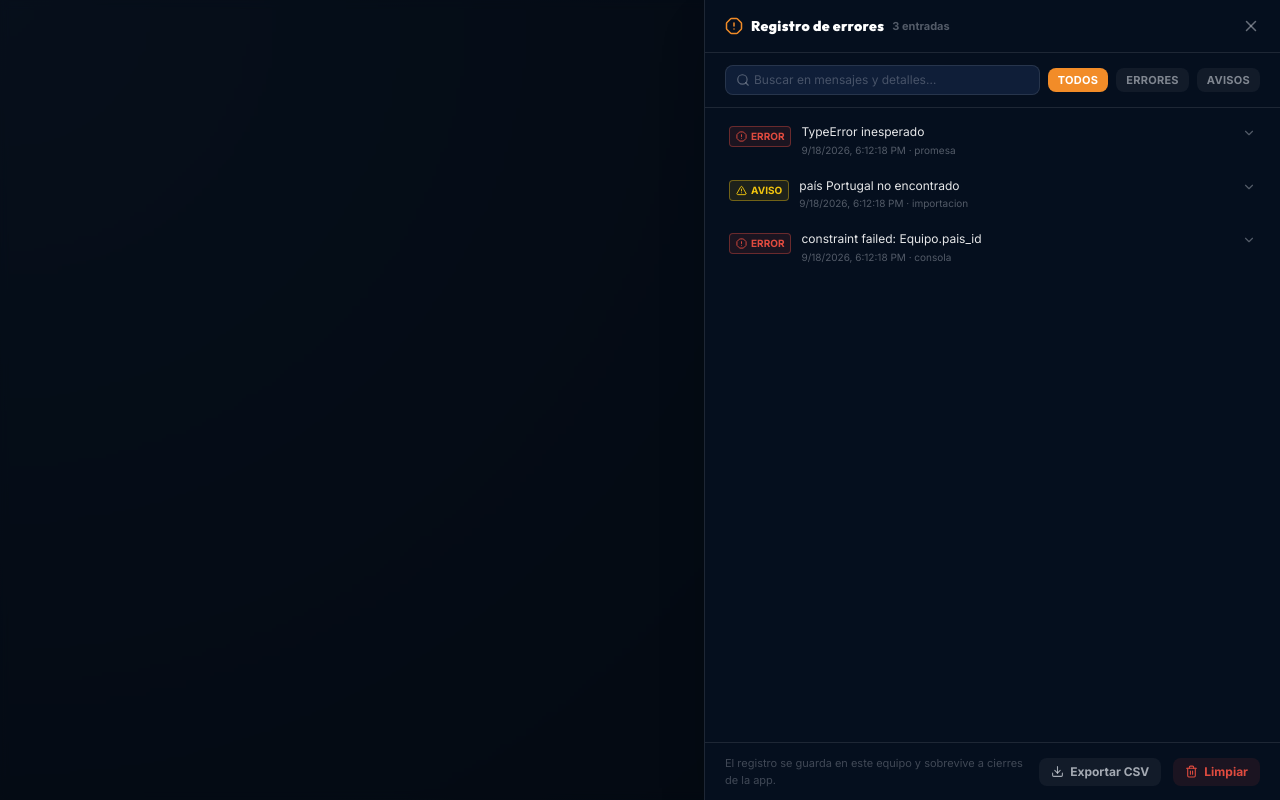
PanelErrores › el filtro por nivel deja solo los avisos
This screenshot has width=1280, height=800.
Click the button "Avisos" at point(1228, 80), box [1197, 68, 1260, 92]
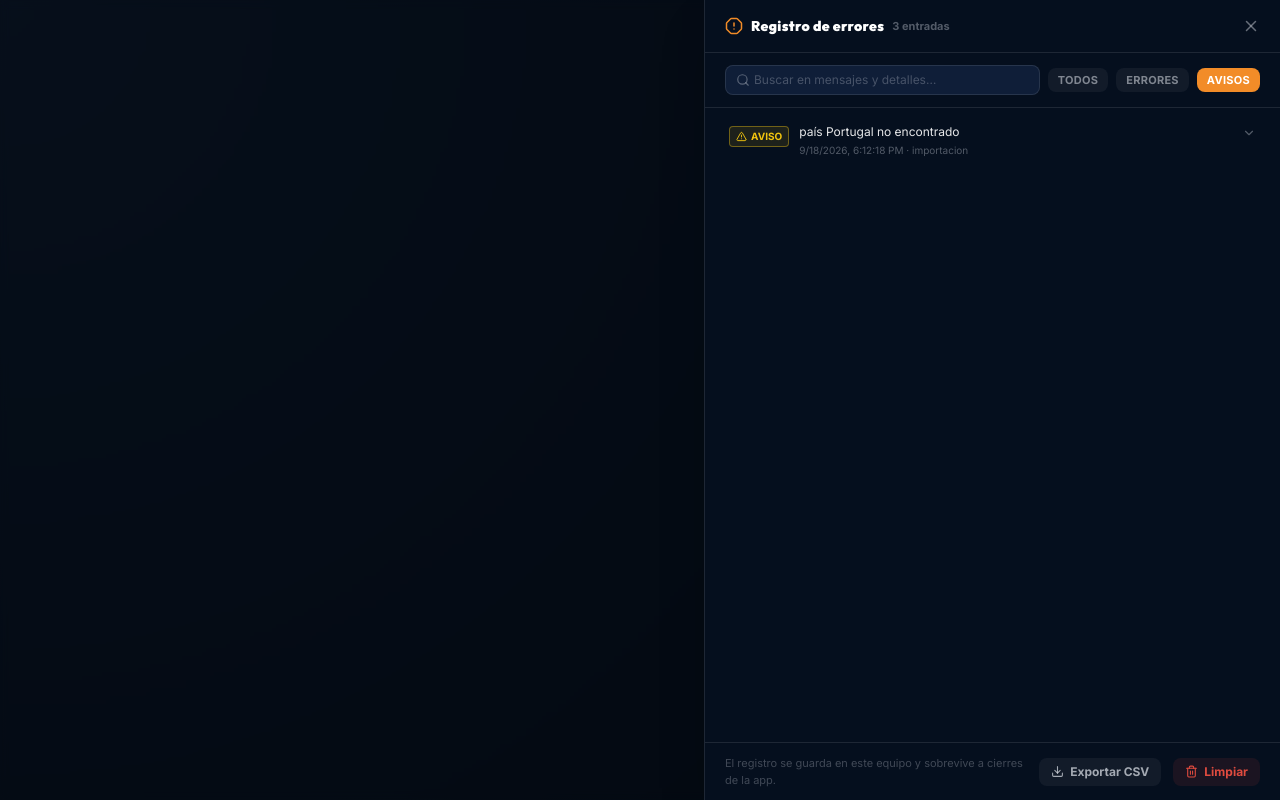
Now the text "país Portugal no encontrado" is shown, box [799, 124, 960, 139]
Now the button "constraint failed: Equipo.pais_id" is gone
